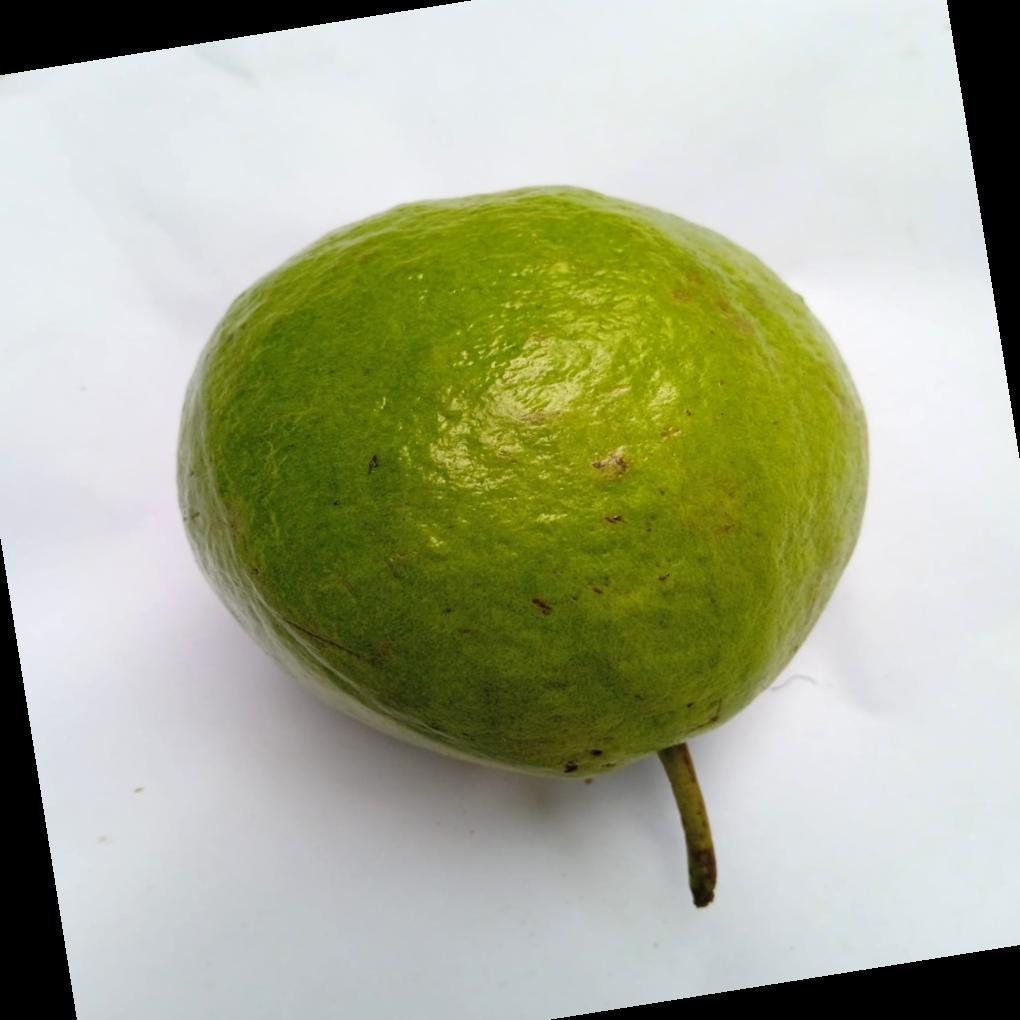FreshGuava: (174, 186, 871, 783)
